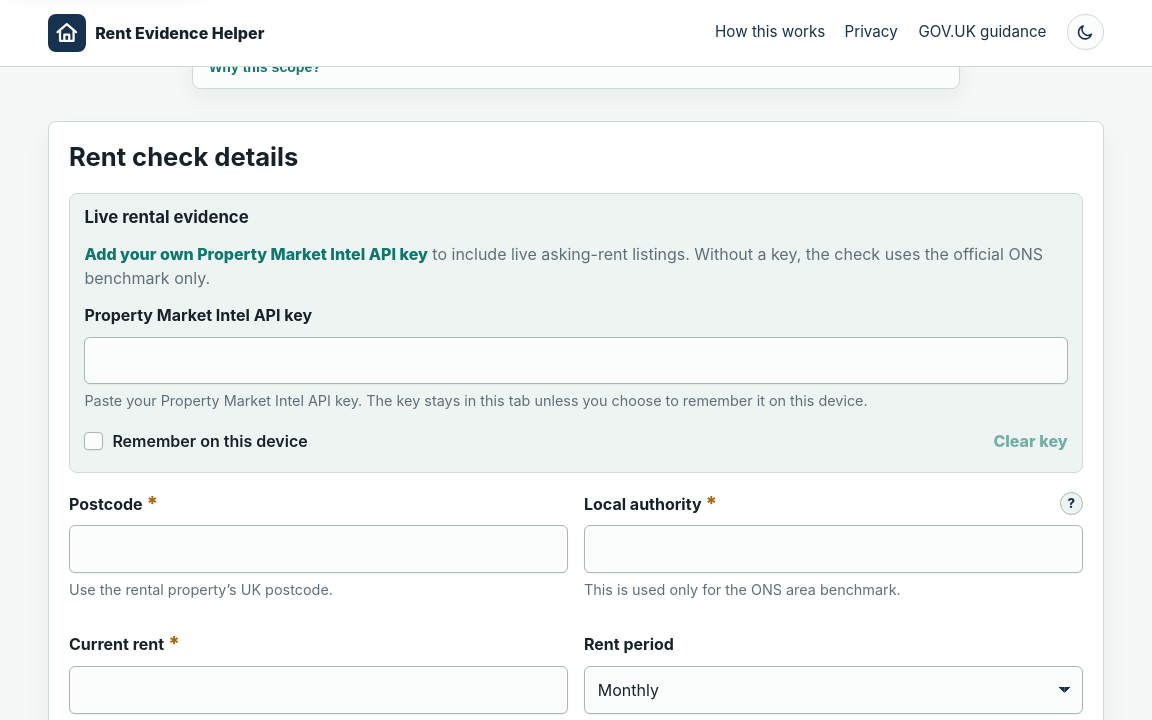
Test case: App › stores a PMI key only when the user opts in and can clear it
The width and height of the screenshot is (1152, 720).
(page scrolled)
Type "pmi_live_test" into the password field labelled "Property Market Intel API key". click: [576, 361]
box: [84,337,1068,384]
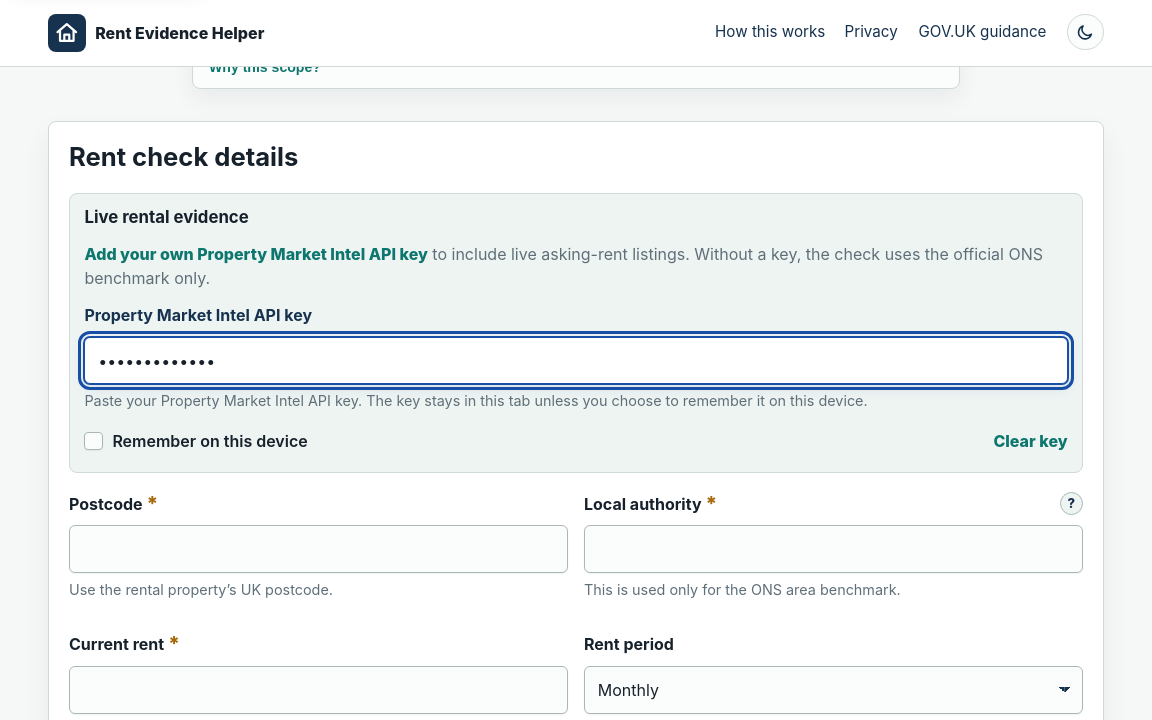
Click the checkbox labelled "Remember on this device". click: [94, 441]
box: [84,432,103,450]
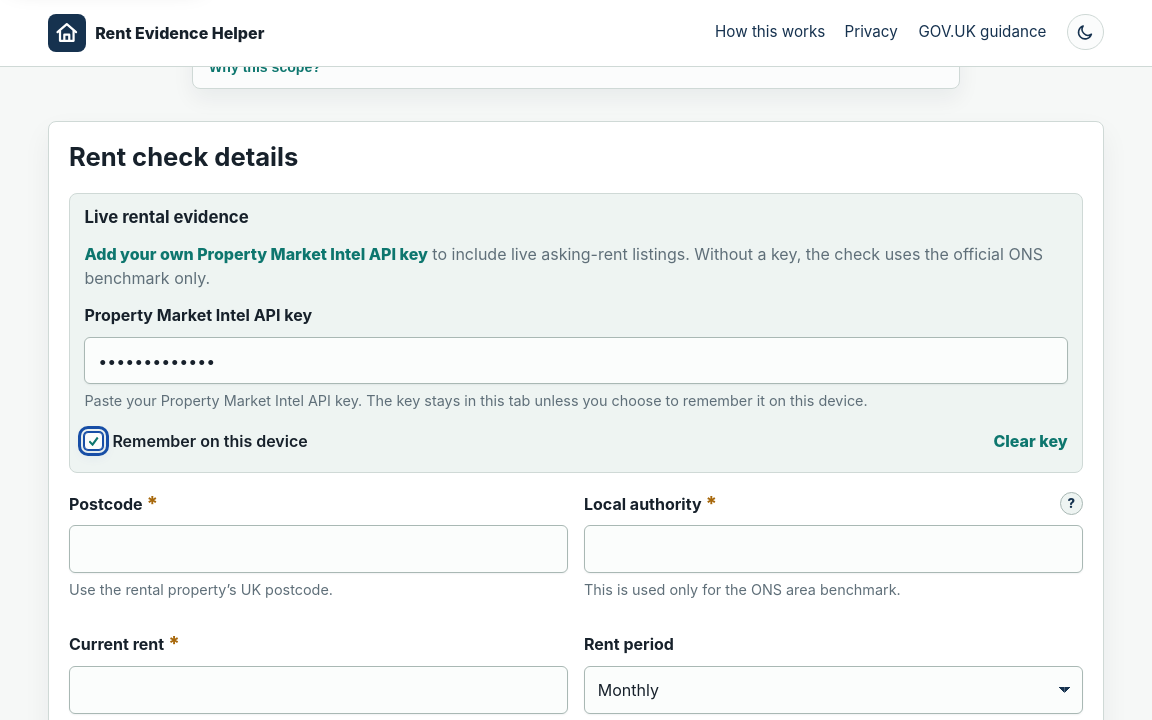
Click the button "Clear key". click: [1030, 441]
box: [993,425,1068,457]
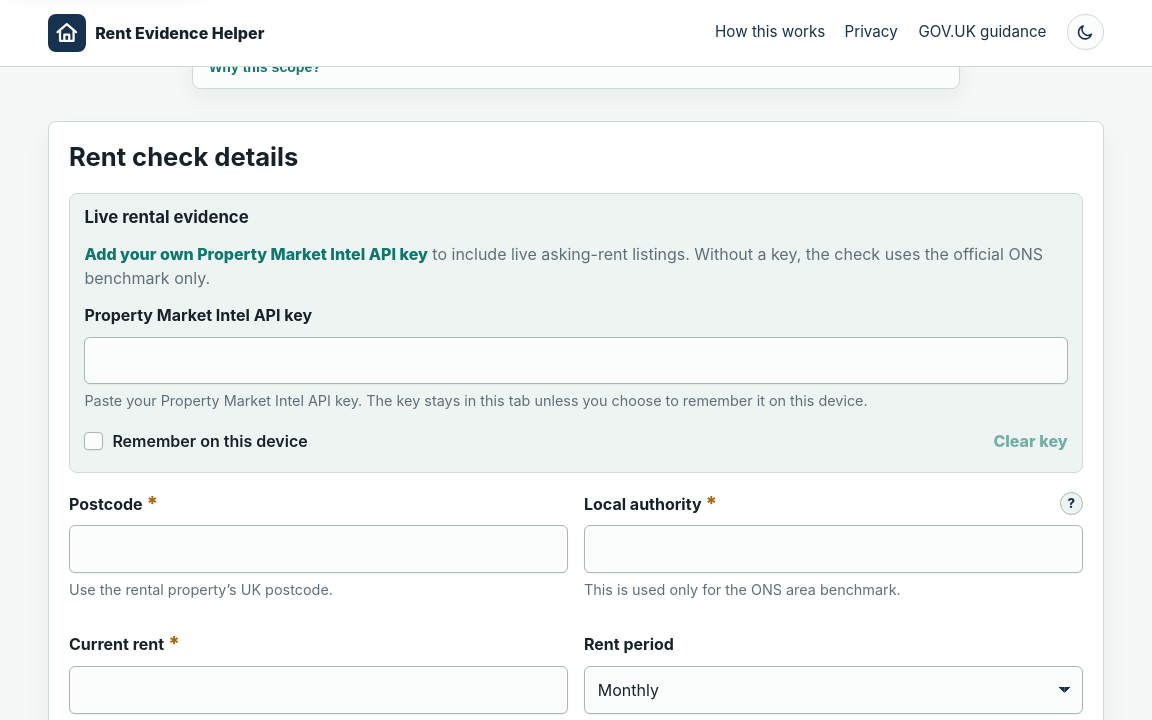
Check: the password field labelled "Property Market Intel API key" is empty, box [84,337,1068,384]
